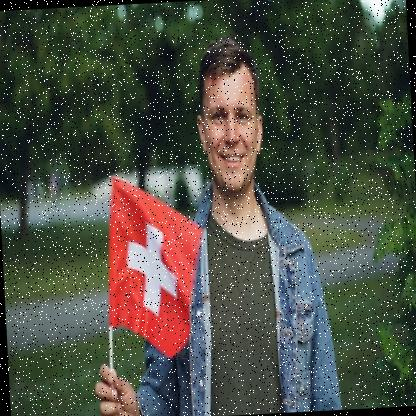ch: (97, 165, 212, 364)
